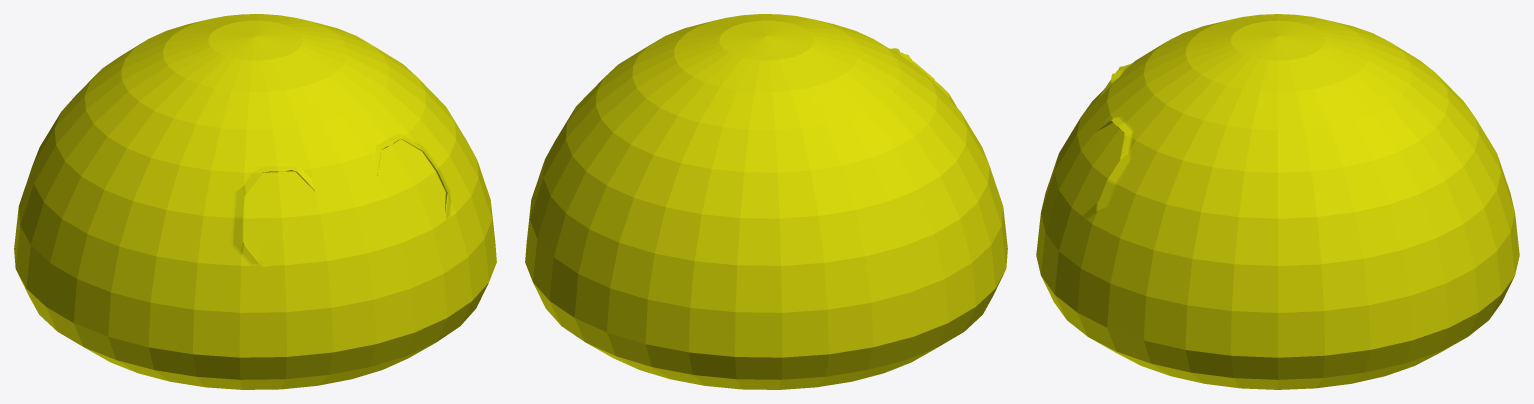
Rendered from SlimeMain .glb.
3 views of the same model, side by side, from view 1: azimuth 30°, elevation 25°; view 2: azimuth 150°, elevation 25°; view 3: azimuth 270°, elevation 25° (orthographic).
Visible parts, largest first — view 1: Sphere; view 2: Sphere; view 3: Sphere.
Part boxes in pixels (x1,y1,x2,y2): Sphere: (14,14,496,389); Sphere: (525,14,1007,389); Sphere: (1036,14,1519,389).
Bounding box in the file's own units: 2 × 1.26 × 2.
1 material, 1 textured.
